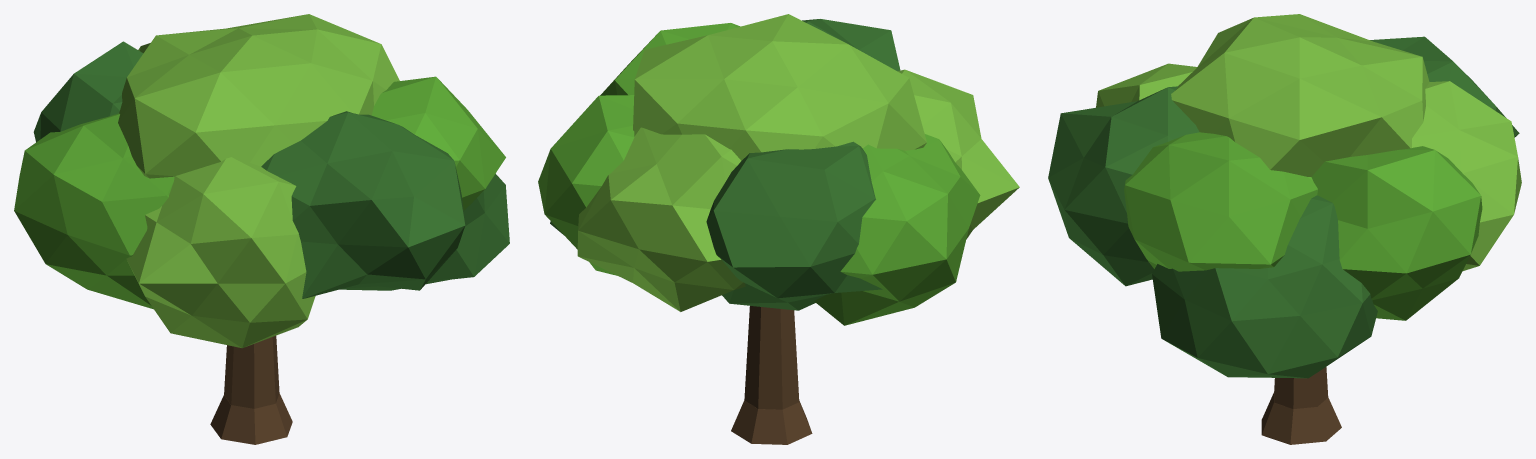
Rendered from tree_oak_2.glb.
The picture shows the model from 3 angles, left to right: view 1: azimuth 30°, elevation 25°; view 2: azimuth 150°, elevation 25°; view 3: azimuth 270°, elevation 25°; orthographic projection.
Parts seen in each view (by area): view 1: tree_oak_2; view 2: tree_oak_2; view 3: tree_oak_2.
Part boxes in pixels (bbox=[...]): tree_oak_2: bbox=[14, 14, 509, 444]; tree_oak_2: bbox=[538, 14, 1019, 444]; tree_oak_2: bbox=[1048, 14, 1521, 444].
Size of what is drawn, in the model's own units: 8.19 by 7.12 by 7.84.
